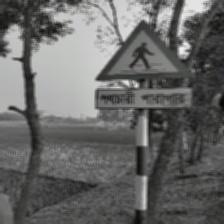Pedestrian-crossing: (95, 20, 194, 111)
